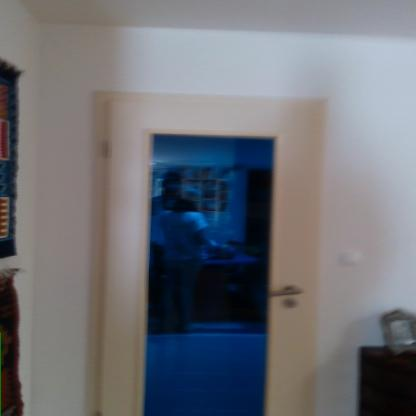closed: (78, 88, 336, 416)
